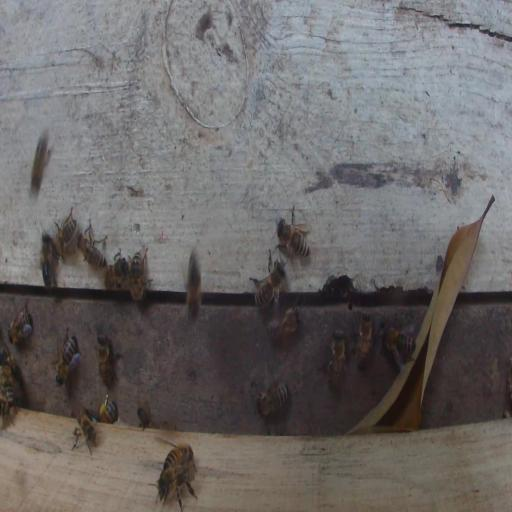nonpollenbee: (250, 250, 285, 309), (277, 203, 310, 259), (157, 464, 197, 510), (54, 332, 80, 387), (71, 406, 99, 456), (30, 130, 50, 199), (383, 326, 417, 366), (128, 247, 152, 302), (54, 207, 77, 262), (324, 329, 346, 386), (268, 307, 301, 344), (7, 300, 33, 346), (186, 248, 201, 324), (256, 383, 289, 416), (96, 332, 115, 386), (105, 250, 129, 290), (79, 233, 106, 267), (41, 231, 57, 288), (163, 443, 194, 469), (356, 316, 372, 363), (1, 375, 14, 427), (1, 347, 19, 380), (137, 406, 151, 430)
pollen: (100, 405, 105, 416)
pollenbee: (100, 401, 117, 425)
